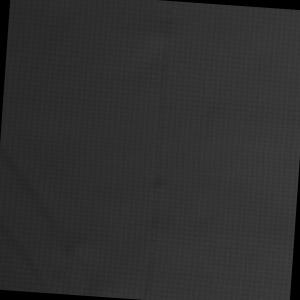Wrinkle: (1, 139, 120, 297)
